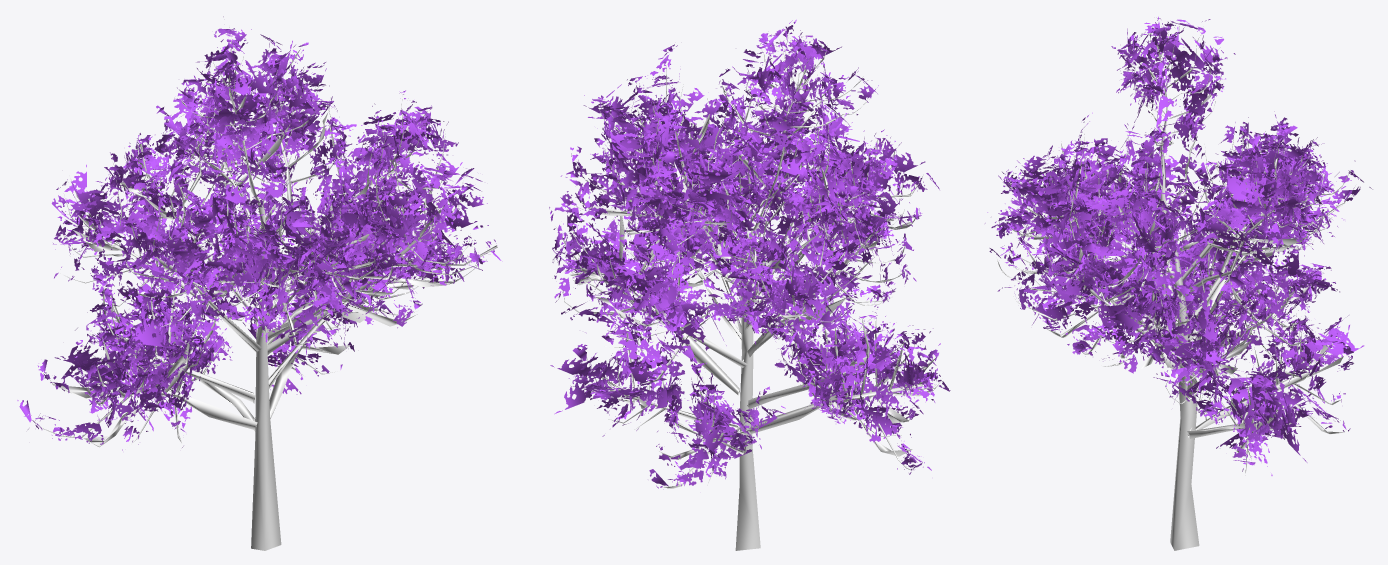
The model's file is Tree3Test.fbx.
3 renders of one model, left to right at view 1: azimuth 30°, elevation 25°; view 2: azimuth 150°, elevation 25°; view 3: azimuth 270°, elevation 25°, orthographic. The views are drawn at different scales.
Parts seen in each view (by area): view 1: Leaves3Bake.001, Tree3.001; view 2: Leaves3Bake.001, Tree3.001; view 3: Leaves3Bake.001, Tree3.001.
Part boxes in pixels (box(x1,y1,x2,y2)): Leaves3Bake.001: box(17, 16, 502, 450); Tree3.001: box(31, 27, 497, 550); Leaves3Bake.001: box(549, 19, 950, 489); Tree3.001: box(556, 37, 940, 550); Leaves3Bake.001: box(985, 16, 1372, 475); Tree3.001: box(996, 23, 1354, 550).
Bounding box in the file's own units: 856 × 995 × 688.
